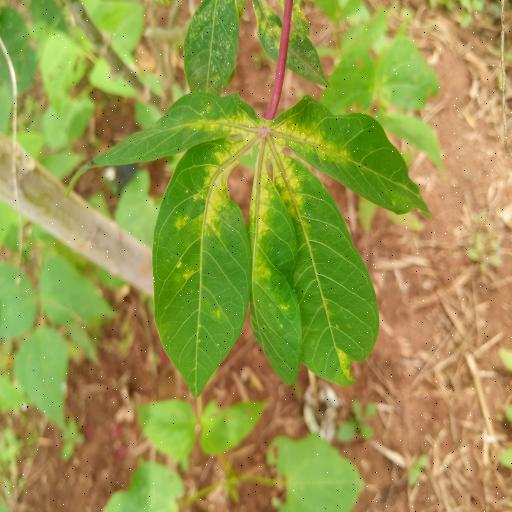Cassava_Mosaic: (90, 82, 435, 406)
